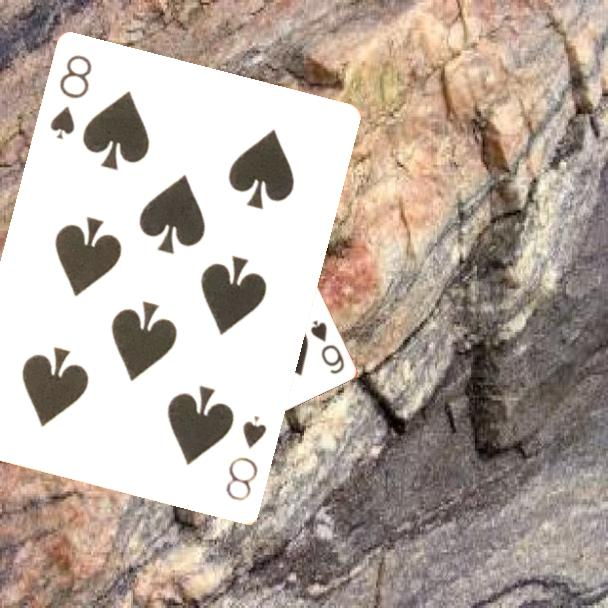s06: (306, 316, 347, 377)
s08: (46, 51, 95, 143), (222, 413, 270, 505)
